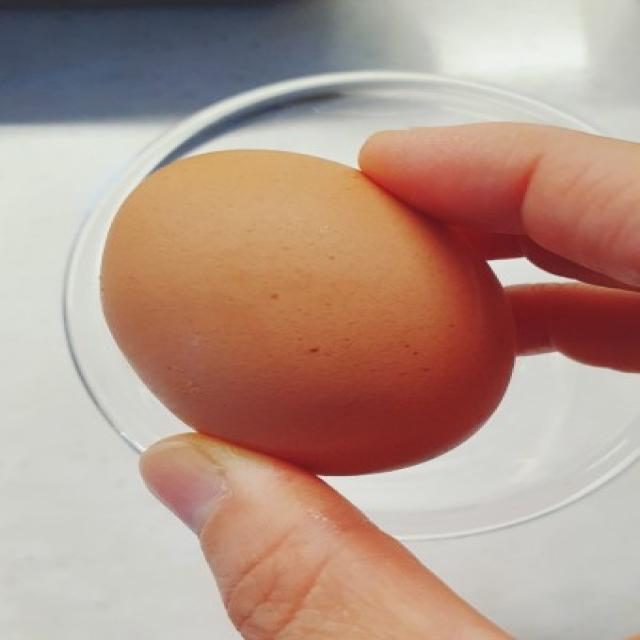eggs: (96, 142, 522, 479)
